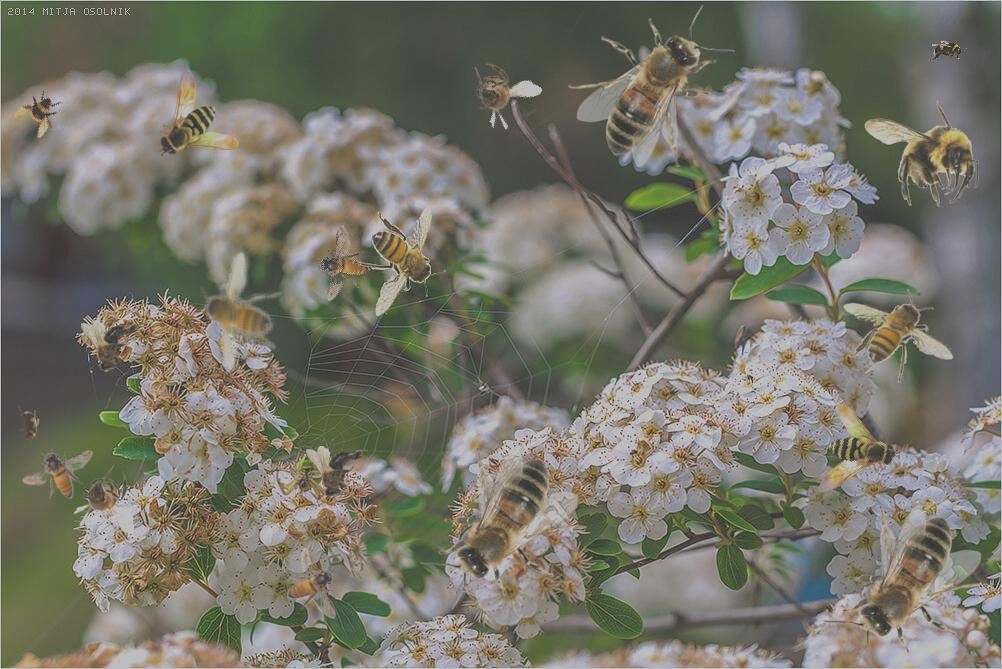Bee: (568, 5, 735, 167), (823, 505, 990, 667), (420, 447, 587, 609), (176, 241, 303, 379), (783, 395, 905, 515), (864, 100, 979, 207), (352, 206, 446, 317), (843, 289, 954, 383), (451, 50, 544, 140), (157, 69, 239, 157), (301, 224, 383, 311), (73, 464, 134, 534), (10, 82, 72, 144), (287, 548, 337, 619), (22, 449, 93, 499), (306, 446, 368, 499), (81, 320, 143, 373), (18, 406, 40, 446), (928, 40, 968, 62)
